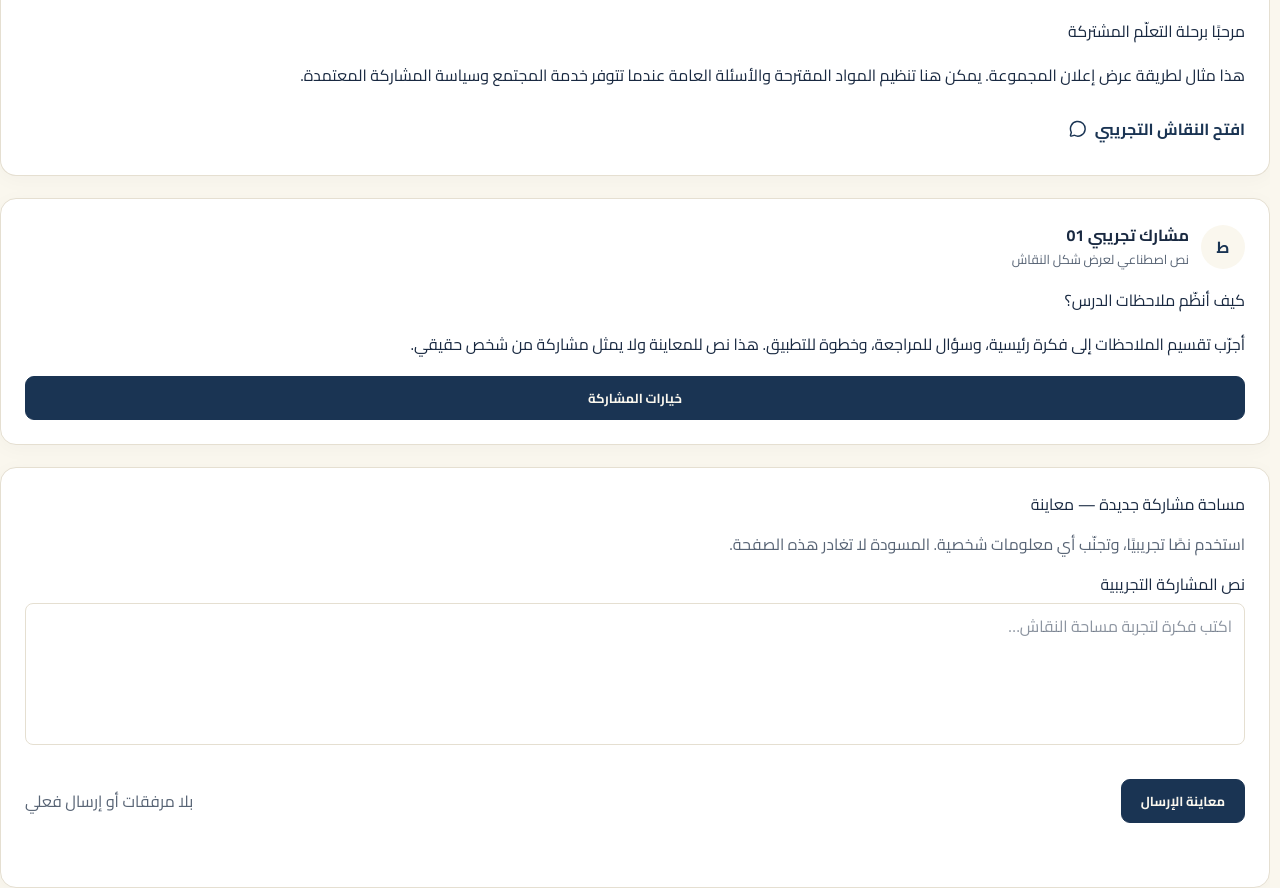
Test: public synthetic experience interactions › keeps community text local and never adds a pretend posted message
(page scrolled)
Click the button "معاينة الإرسال" at coordinates (1183, 801), box [1121,779,1245,823]
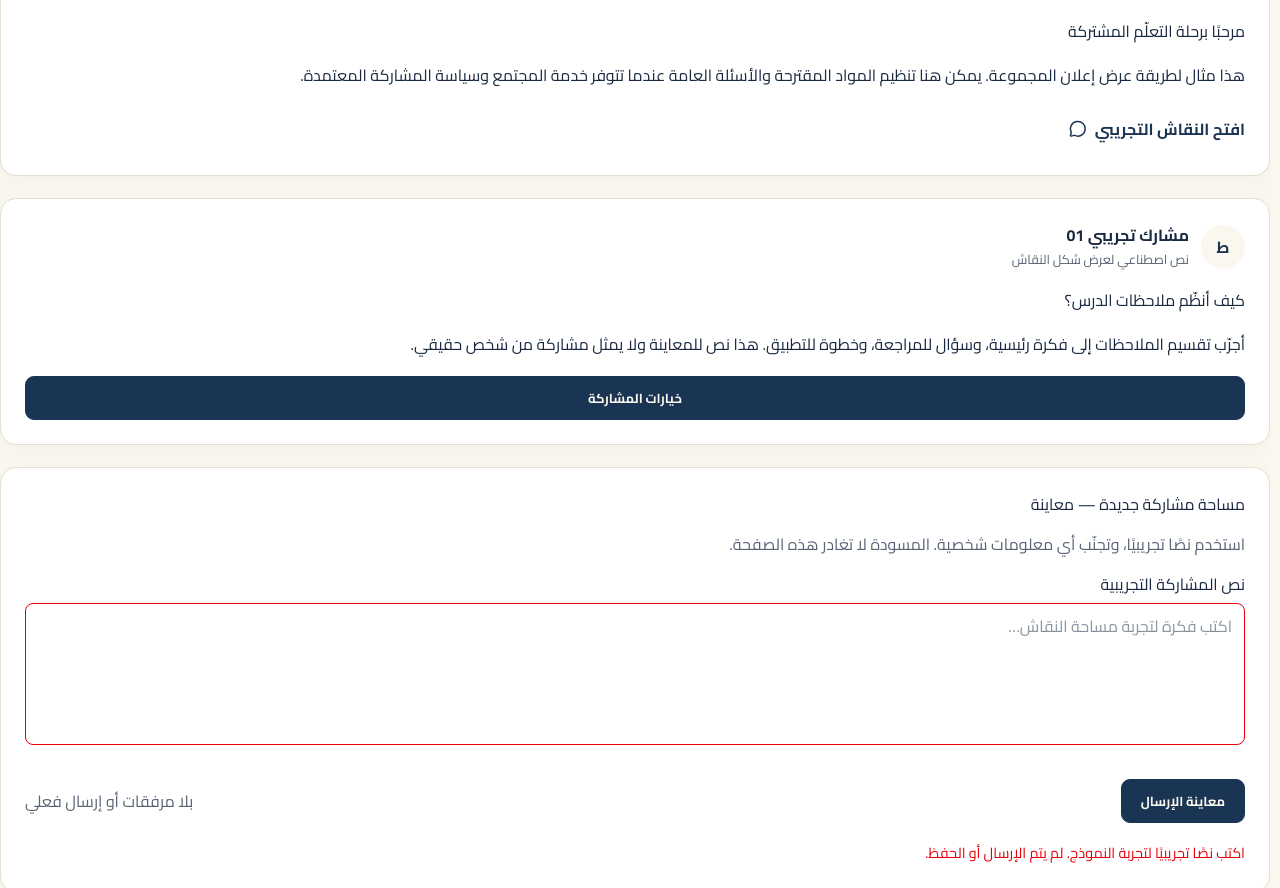
Type "مسودة اختبار" into the text box at coordinates (635, 674), box [25,603,1245,745]
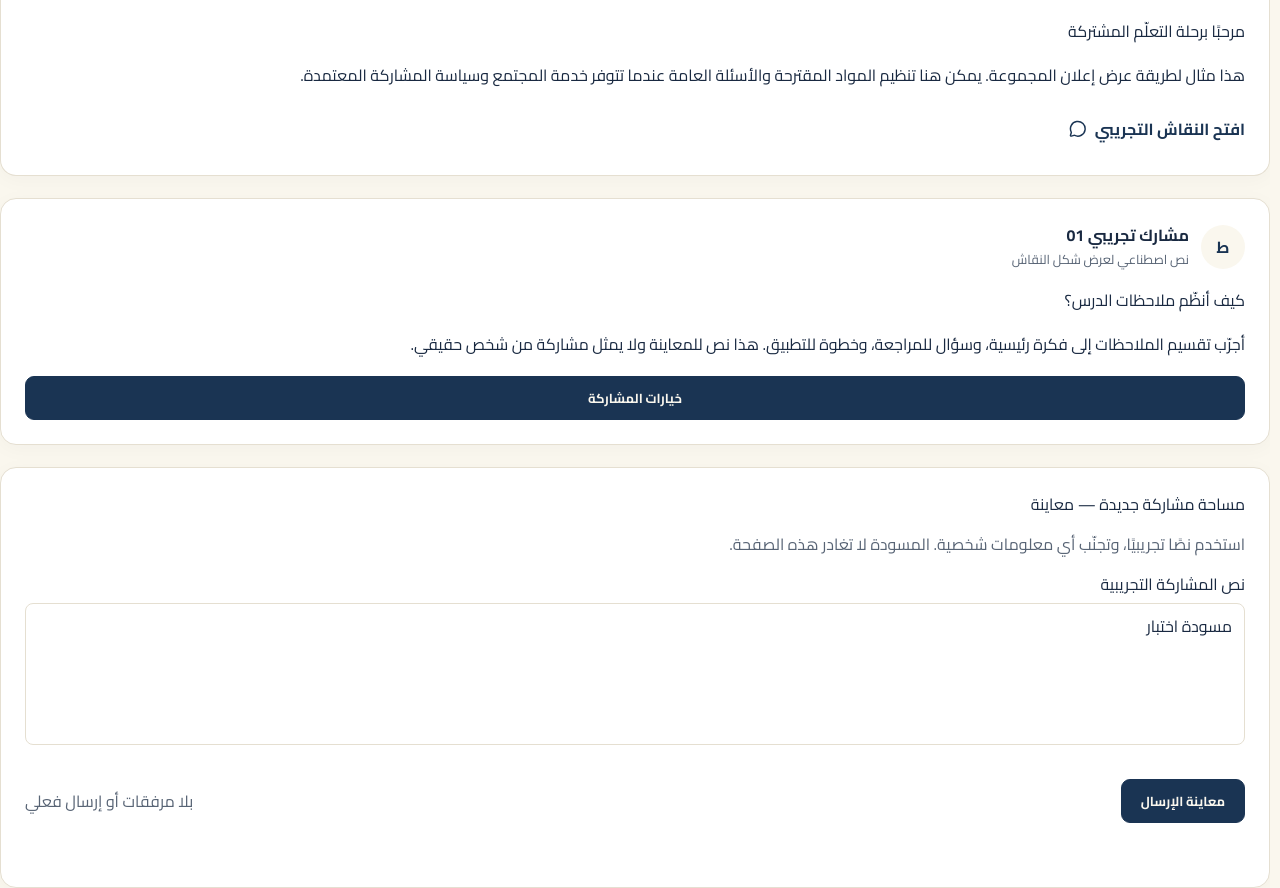
Click the button "معاينة الإرسال" at coordinates (1183, 801), box [1121,779,1245,823]
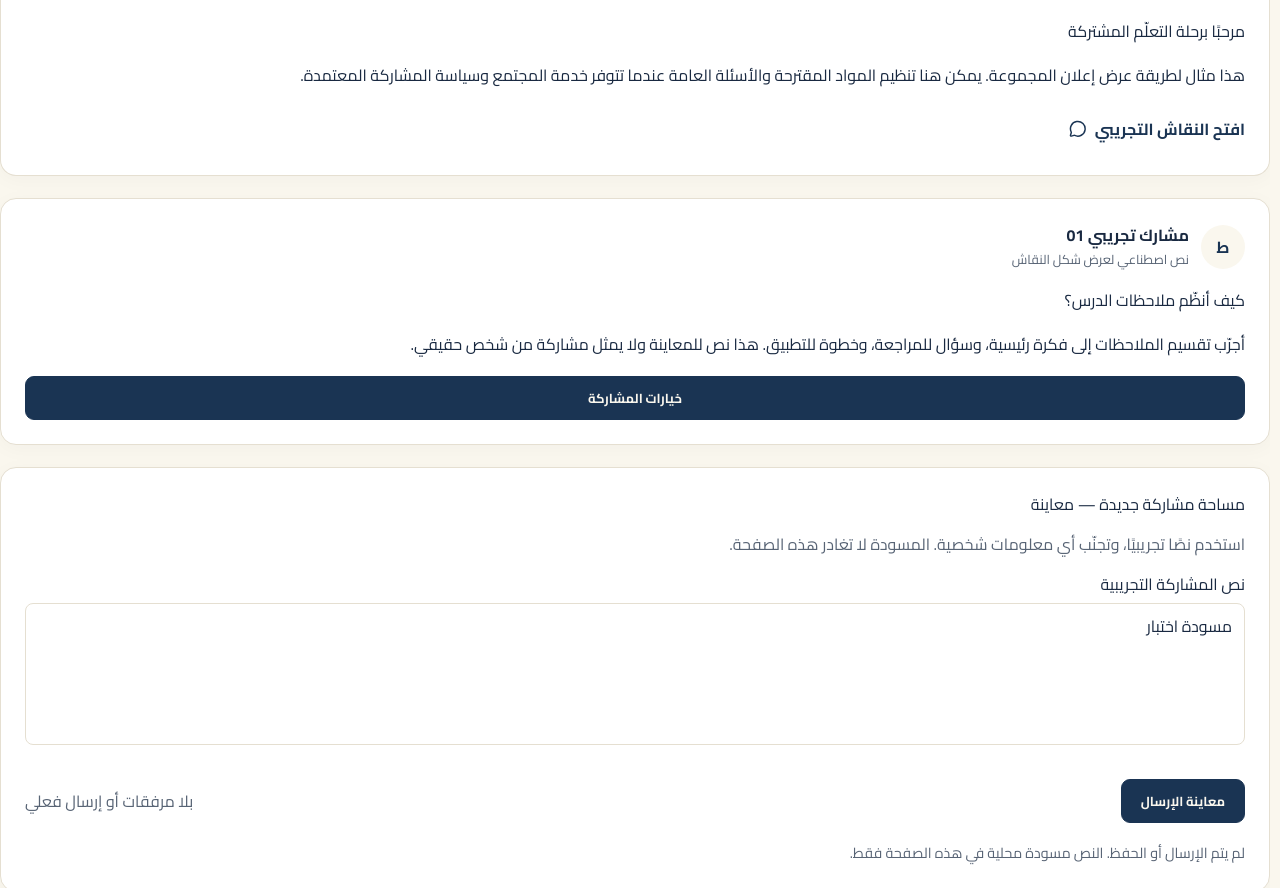
Result: the message shows "لم يتم الإرسال أو الحفظ" at [850,839,1245,866]
Result: the message shows "مسودة محلية" at [850,839,1245,866]
